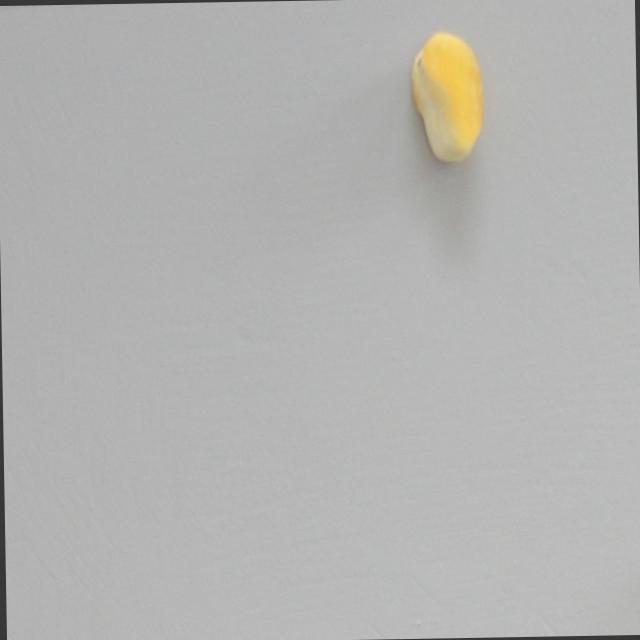dañado: (405, 31, 489, 168)
